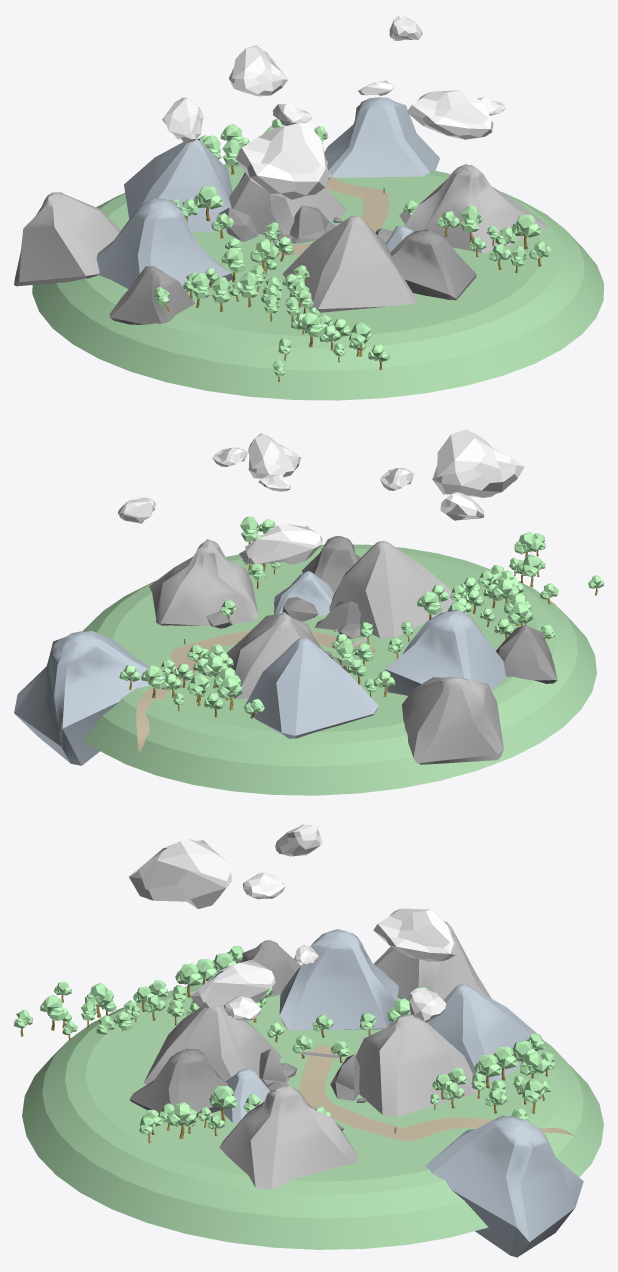
The model's file is Enviroment.glb.
The picture shows the model from 3 angles, top to bottom: view 1: azimuth 30°, elevation 25°; view 2: azimuth 150°, elevation 25°; view 3: azimuth 270°, elevation 25°; orthographic projection. The views are drawn at different scales.
Parts seen in each view (by area): view 1: ground, bigMountain1, bigMountain8, bigMountain4, bigMountain6, bigMountain9, bigMountain5, cloud8, bigMountain10, bigMountain3, cloud4, bigMountain7 (+7 smaller); view 2: ground, bigMountain6, bigMountain9, bigMountain8, bigMountain1, bigMountain5, bigMountain4, cloud8, bigMountain3, bigMountain7, cloud3, track (+9 smaller); view 3: ground, bigMountain6, bigMountain5, bigMountain4, bigMountain3, bigMountain1, cloud8, bigMountain9, track, bigMountain10, bigMountain8, cloud3 (+9 smaller).
Part boxes in pixels (x1=…): ground: x1=32, y1=160, x2=603, y2=400; bigMountain1: x1=282, y1=215, x2=417, y2=312; bigMountain8: x1=14, y1=192, x2=120, y2=286; bigMountain4: x1=96, y1=198, x2=232, y2=291; bigMountain6: x1=324, y1=97, x2=439, y2=177; bigMountain9: x1=124, y1=139, x2=232, y2=231; bigMountain5: x1=405, y1=164, x2=548, y2=253; cloud8: x1=235, y1=122, x2=329, y2=199; bigMountain10: x1=390, y1=229, x2=476, y2=300; bigMountain3: x1=229, y1=172, x2=347, y2=237; cloud4: x1=407, y1=90, x2=493, y2=139; bigMountain7: x1=109, y1=266, x2=194, y2=324; ground: x1=83, y1=544, x2=596, y2=795; bigMountain6: x1=14, y1=631, x2=165, y2=765; bigMountain9: x1=244, y1=638, x2=378, y2=738; bigMountain8: x1=402, y1=676, x2=503, y2=764; bigMountain1: x1=329, y1=541, x2=454, y2=638; bigMountain5: x1=149, y1=539, x2=257, y2=625; bigMountain4: x1=385, y1=609, x2=506, y2=695; cloud8: x1=432, y1=429, x2=524, y2=497; bigMountain3: x1=226, y1=612, x2=316, y2=698; bigMountain7: x1=496, y1=624, x2=557, y2=683; cloud3: x1=239, y1=524, x2=322, y2=564; track: x1=136, y1=630, x2=376, y2=753; ground: x1=22, y1=982, x2=603, y2=1249; bigMountain6: x1=424, y1=1115, x2=583, y2=1257; bigMountain5: x1=219, y1=1085, x2=358, y2=1189; bigMountain4: x1=279, y1=929, x2=398, y2=1030; bigMountain3: x1=355, y1=1014, x2=478, y2=1116; bigMountain1: x1=144, y1=1006, x2=281, y2=1084; cloud8: x1=129, y1=838, x2=231, y2=908; bigMountain9: x1=427, y1=984, x2=543, y2=1082; track: x1=300, y1=1045, x2=575, y2=1140; bigMountain10: x1=129, y1=1048, x2=228, y2=1117; bigMountain8: x1=374, y1=921, x2=491, y2=1000; cloud3: x1=373, y1=908, x2=457, y2=961.
Bounding box in the file's own units: 7355 × 3868 × 7457.
